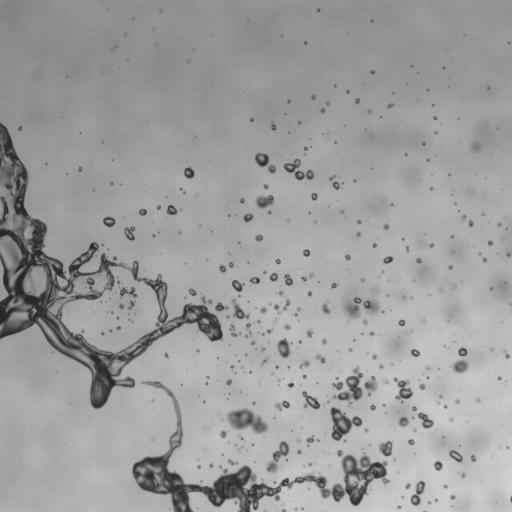droplet: (332, 366, 363, 405), (330, 407, 362, 440), (226, 408, 268, 433), (343, 297, 379, 320), (393, 377, 412, 402), (302, 391, 319, 409), (277, 338, 290, 358), (364, 376, 377, 396), (417, 412, 433, 428), (273, 299, 290, 314), (450, 359, 468, 373), (255, 195, 274, 208), (378, 441, 392, 456), (232, 280, 244, 296), (120, 287, 136, 297), (449, 450, 462, 462), (103, 216, 115, 227), (124, 227, 134, 240), (275, 401, 289, 410), (184, 167, 194, 178), (398, 416, 408, 427), (215, 302, 227, 311), (167, 205, 177, 215), (322, 302, 330, 314), (458, 347, 467, 357), (284, 274, 292, 285), (470, 143, 479, 152), (269, 272, 278, 281), (316, 354, 325, 363), (433, 461, 442, 470), (243, 213, 253, 221), (299, 360, 309, 367), (249, 277, 260, 283), (383, 256, 392, 263), (333, 181, 340, 189), (219, 265, 226, 273), (188, 288, 196, 295), (411, 349, 419, 356), (255, 234, 262, 241), (398, 319, 405, 326), (306, 329, 312, 337), (220, 430, 226, 438), (228, 459, 236, 465), (311, 193, 317, 200), (139, 209, 146, 215), (303, 249, 309, 256), (128, 301, 134, 308), (260, 307, 266, 313), (284, 324, 290, 330), (287, 382, 293, 388), (419, 383, 425, 389), (470, 455, 476, 461), (271, 123, 276, 129), (345, 254, 350, 260), (301, 276, 307, 281), (331, 283, 337, 288), (321, 338, 326, 344), (504, 352, 509, 358), (263, 357, 268, 363), (226, 379, 231, 385), (382, 379, 388, 384), (408, 439, 414, 444), (461, 215, 466, 220), (468, 221, 473, 226), (383, 224, 388, 229), (228, 262, 233, 267), (373, 287, 378, 292), (278, 290, 283, 295), (250, 340, 255, 345), (370, 405, 375, 410), (405, 483, 410, 488), (387, 103, 393, 107), (266, 329, 272, 333), (311, 94, 315, 99), (355, 98, 359, 103), (329, 176, 334, 180), (263, 184, 268, 188), (506, 252, 511, 256), (275, 259, 280, 263), (416, 258, 421, 262), (363, 319, 367, 324), (372, 354, 376, 359), (412, 406, 416, 411), (450, 495, 455, 499), (320, 108, 324, 112), (240, 198, 244, 202), (356, 232, 360, 236), (488, 241, 492, 245), (482, 257, 486, 261), (448, 265, 452, 269), (309, 273, 313, 277), (307, 292, 311, 296), (401, 295, 405, 299), (119, 304, 123, 308), (370, 331, 374, 335), (164, 353, 168, 357), (379, 364, 383, 368), (455, 399, 459, 403), (461, 473, 465, 477), (443, 484, 447, 488), (78, 166, 81, 171), (406, 246, 409, 251), (373, 243, 376, 247), (430, 243, 433, 247), (117, 326, 120, 330), (303, 374, 306, 378), (497, 377, 501, 380), (240, 436, 243, 440), (281, 509, 286, 511), (371, 70, 374, 73), (18, 127, 21, 130), (304, 147, 307, 150), (181, 189, 184, 192), (157, 206, 160, 209), (357, 220, 360, 223), (361, 278, 364, 281), (426, 366, 429, 369), (476, 399, 479, 402), (444, 405, 447, 408), (449, 418, 452, 421), (365, 428, 368, 431), (298, 450, 301, 453), (197, 465, 200, 468), (209, 464, 212, 467), (397, 505, 400, 508), (230, 366, 234, 368), (308, 463, 312, 465), (287, 100, 290, 102), (326, 102, 329, 104), (368, 110, 371, 112), (434, 116, 436, 119), (250, 118, 253, 120), (110, 182, 113, 184), (430, 187, 432, 190), (268, 211, 271, 213), (498, 223, 500, 226), (263, 271, 266, 273), (118, 281, 120, 284), (407, 331, 410, 333), (262, 347, 264, 350), (349, 348, 351, 351), (252, 402, 255, 404), (297, 439, 299, 442), (428, 501, 430, 504), (298, 121, 300, 123), (423, 142, 425, 144), (451, 235, 453, 237), (479, 253, 481, 255), (276, 366, 278, 368), (439, 396, 441, 398)
ligament: (0, 123, 222, 409), (132, 382, 389, 511), (266, 441, 289, 472), (283, 158, 313, 179), (254, 153, 275, 173), (231, 299, 249, 319), (410, 481, 425, 505), (306, 436, 319, 444), (230, 324, 237, 337), (245, 323, 251, 337), (294, 308, 300, 315), (510, 497, 511, 501), (263, 510, 266, 511)
